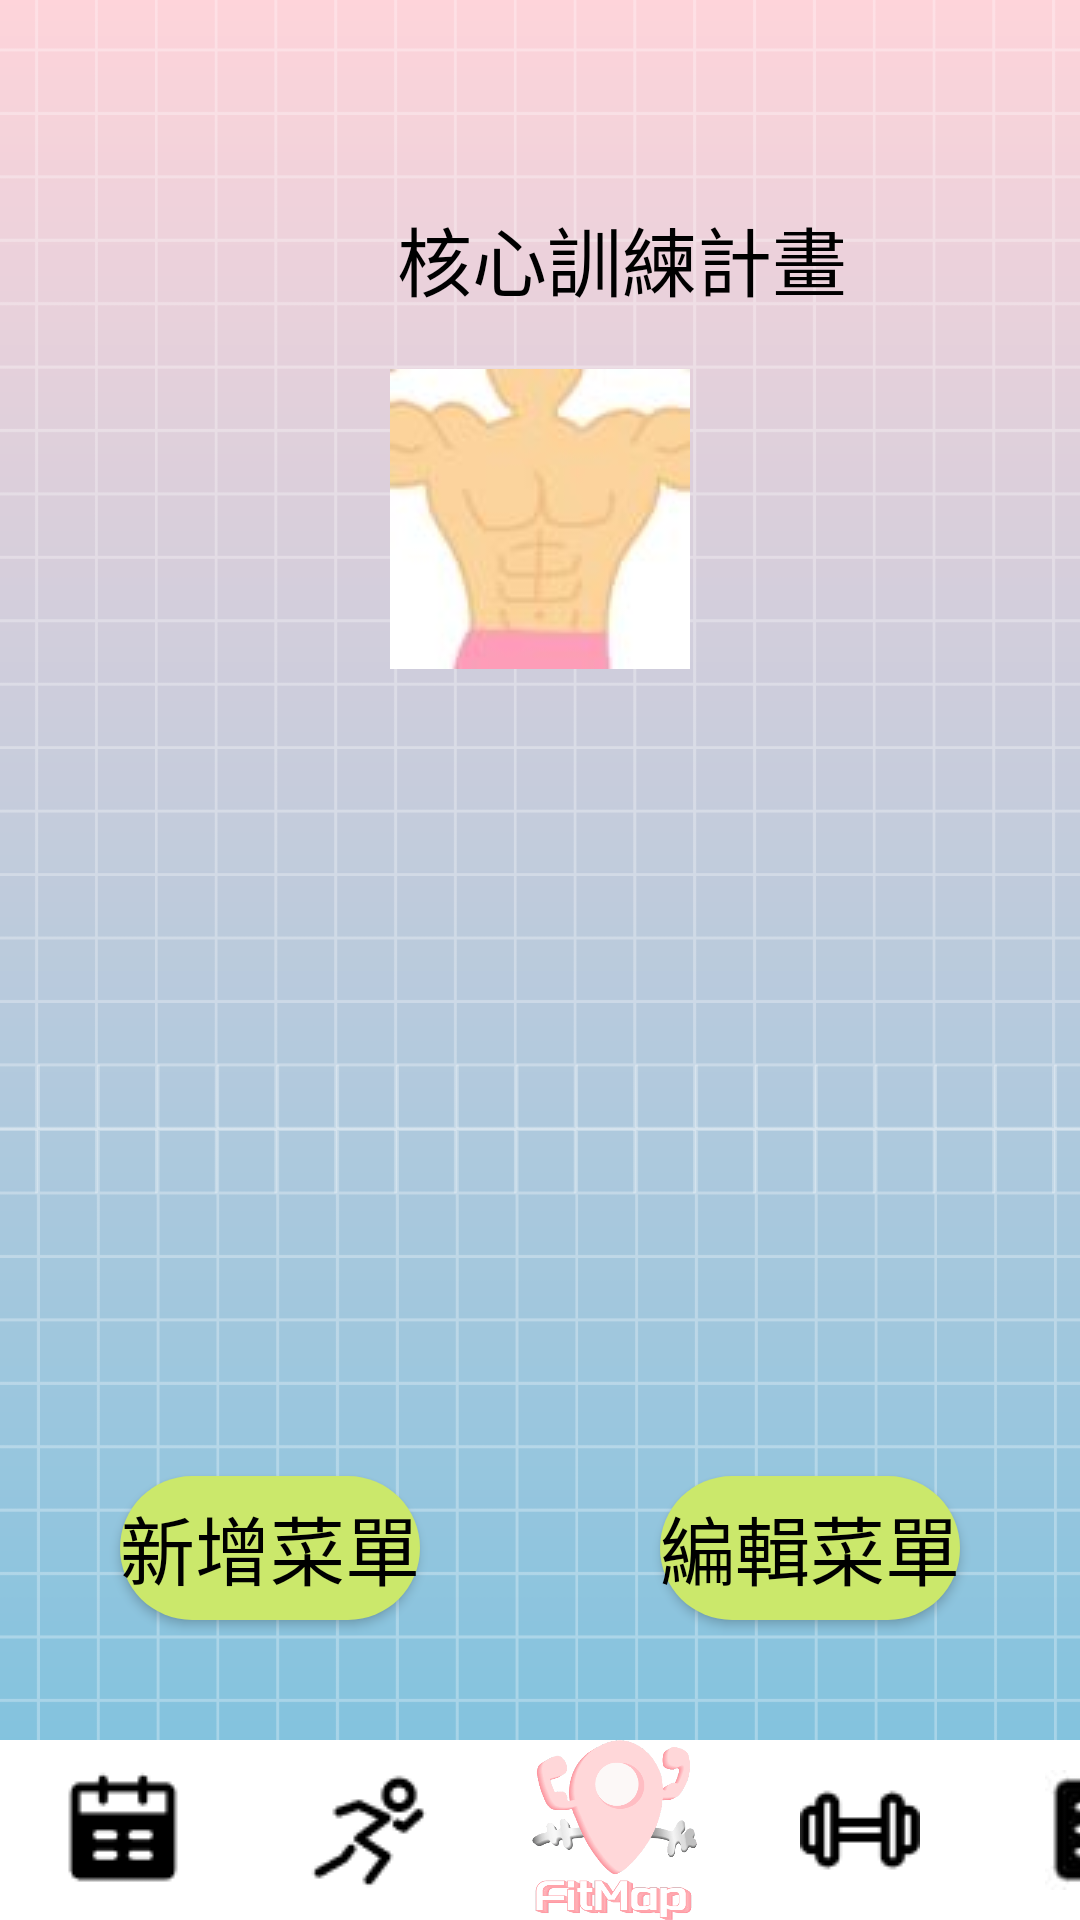

Icon click points for this 1080px x 1920px phone screenshot, format (x,y):
reservation: (123,1828)
run: (369,1830)
